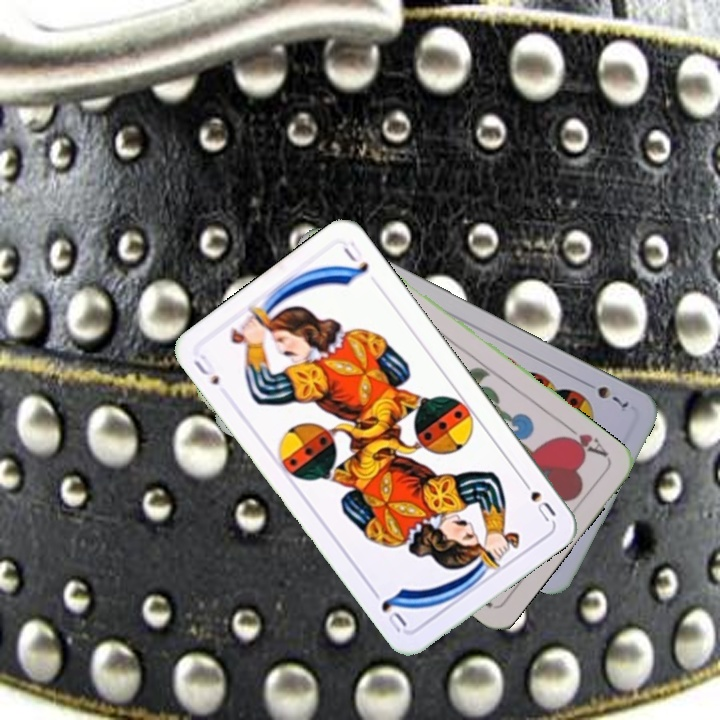HA: (556, 420, 611, 460)
S7: (580, 377, 631, 411)
SU: (516, 473, 559, 525), (189, 350, 222, 388)
